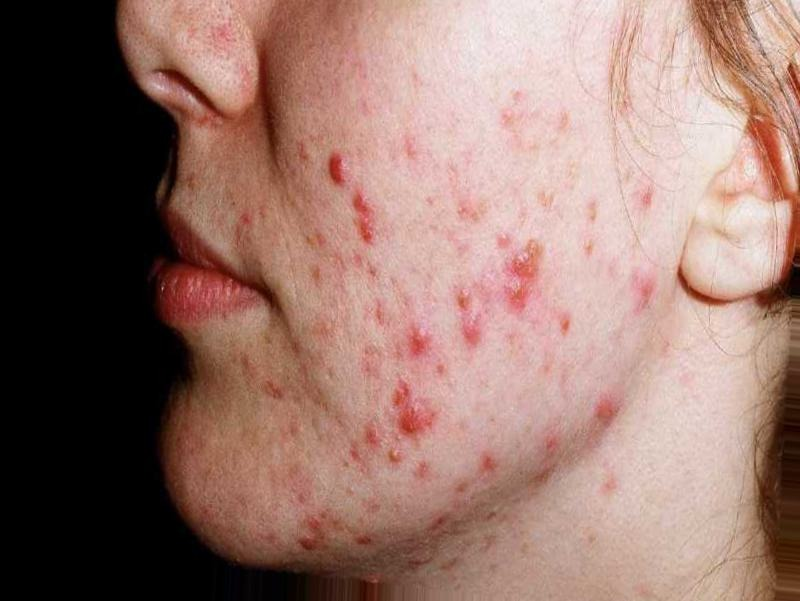Acne: (184, 94, 646, 588)
